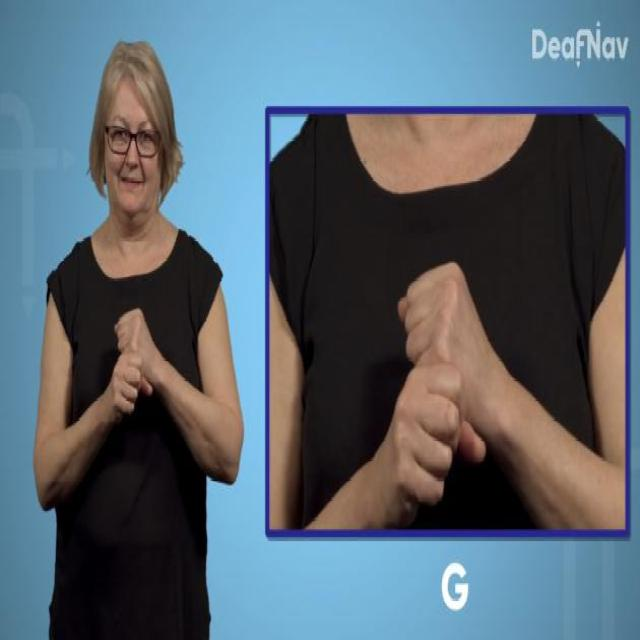G: (388, 258, 490, 522), (112, 309, 156, 429)
